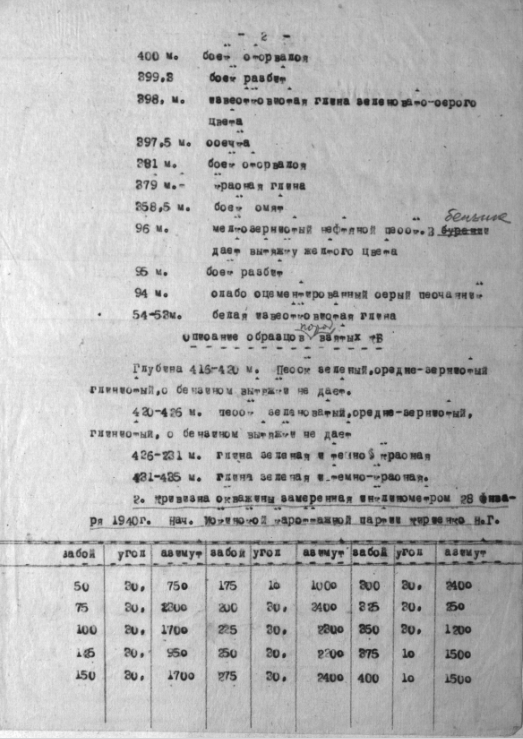Borderless: (2, 537, 523, 738)
